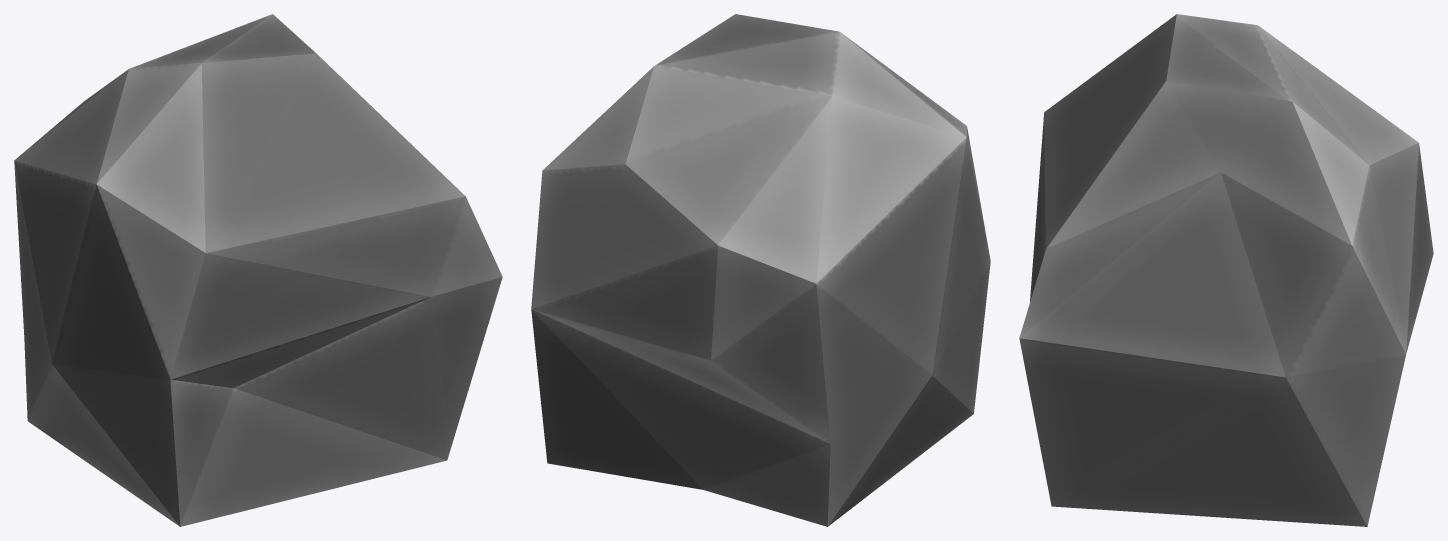
The model's file is Solid_Rock_1.fbx.
The picture shows the model from 3 angles, left to right: view 1: azimuth 30°, elevation 25°; view 2: azimuth 150°, elevation 25°; view 3: azimuth 270°, elevation 25°; orthographic projection.
Visible parts, largest first — view 1: Solid_Rock_1; view 2: Solid_Rock_1; view 3: Solid_Rock_1.
Part boxes in pixels (<box>): Solid_Rock_1: <box>14,14,502,526</box>; Solid_Rock_1: <box>531,14,990,526</box>; Solid_Rock_1: <box>1019,14,1433,526</box>.
Size of the model in its own units: 134 by 148 by 134.
Materials: 1 (1 with a texture image).
